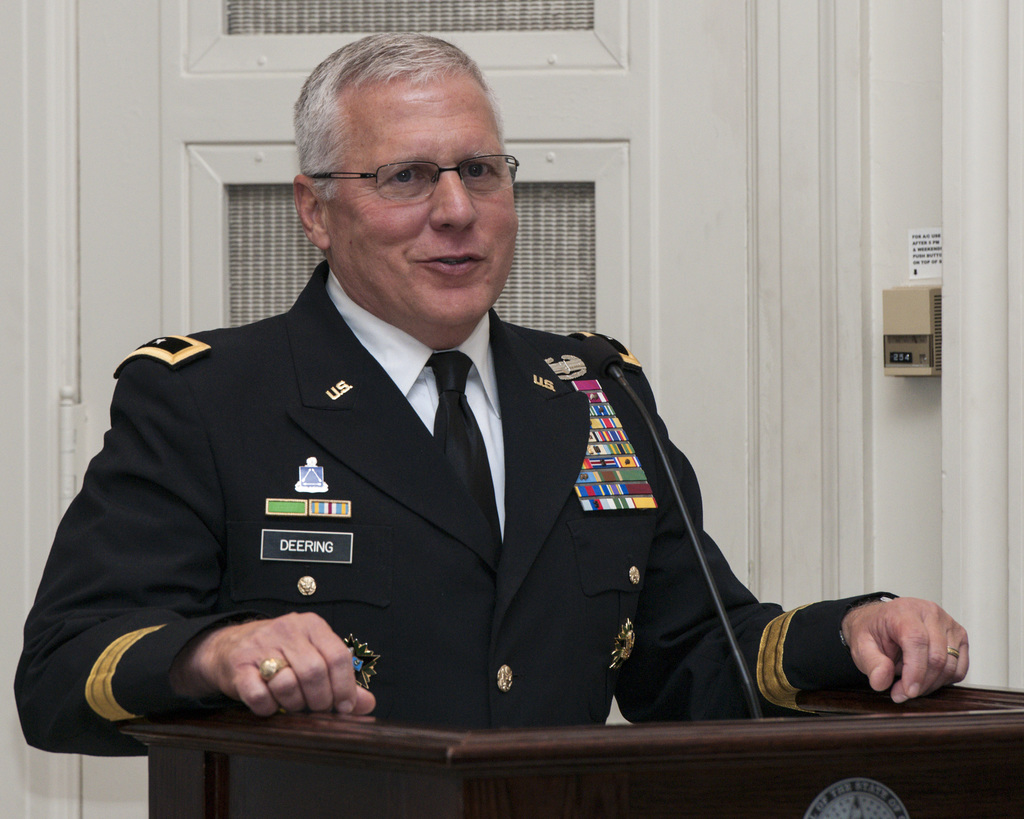Person: (13, 30, 969, 756)
